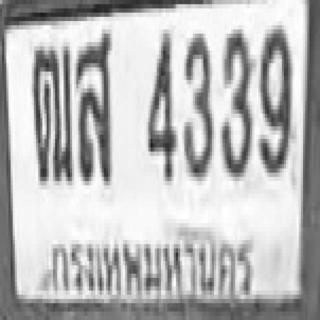A18: (31, 42, 71, 181)
A40: (74, 30, 110, 181)
N03: (218, 25, 250, 173), (182, 29, 212, 173)
N04: (146, 30, 174, 177)
N09: (259, 21, 290, 172)
P04: (46, 228, 256, 308)
